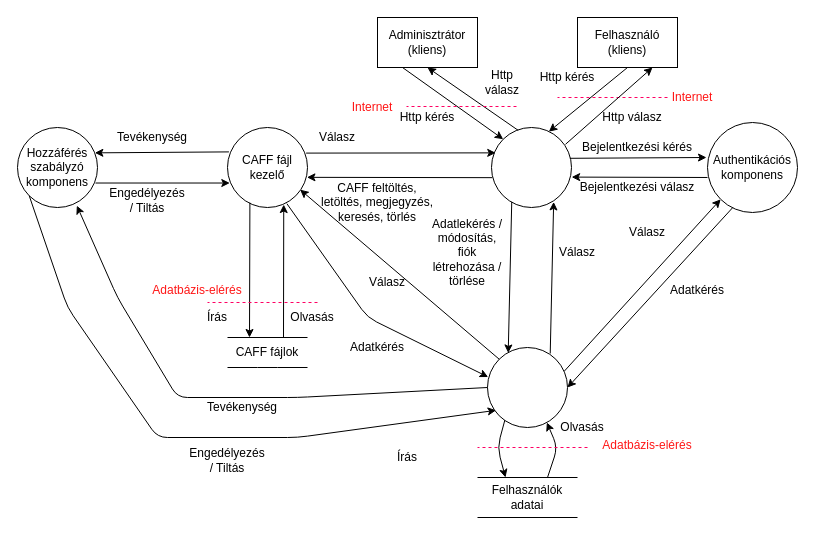
Some shapes in this 815 by 536 pixel diagram are drawn without their labels. Each missing label, with the centre of its shape:
"Felhasználói adatkezelő" goes at pixel 527 387.
"Webszerver" goes at pixel 531 167.
